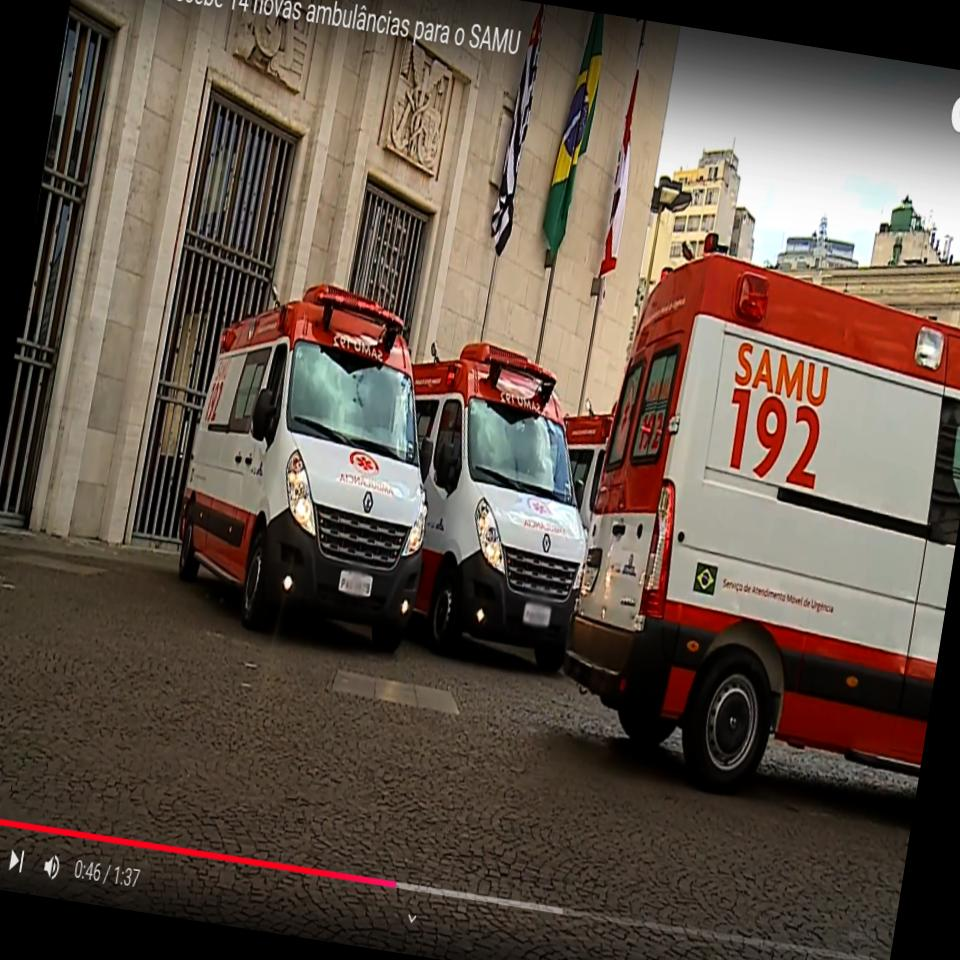bombeiro: (160, 268, 466, 661), (372, 334, 617, 678)
